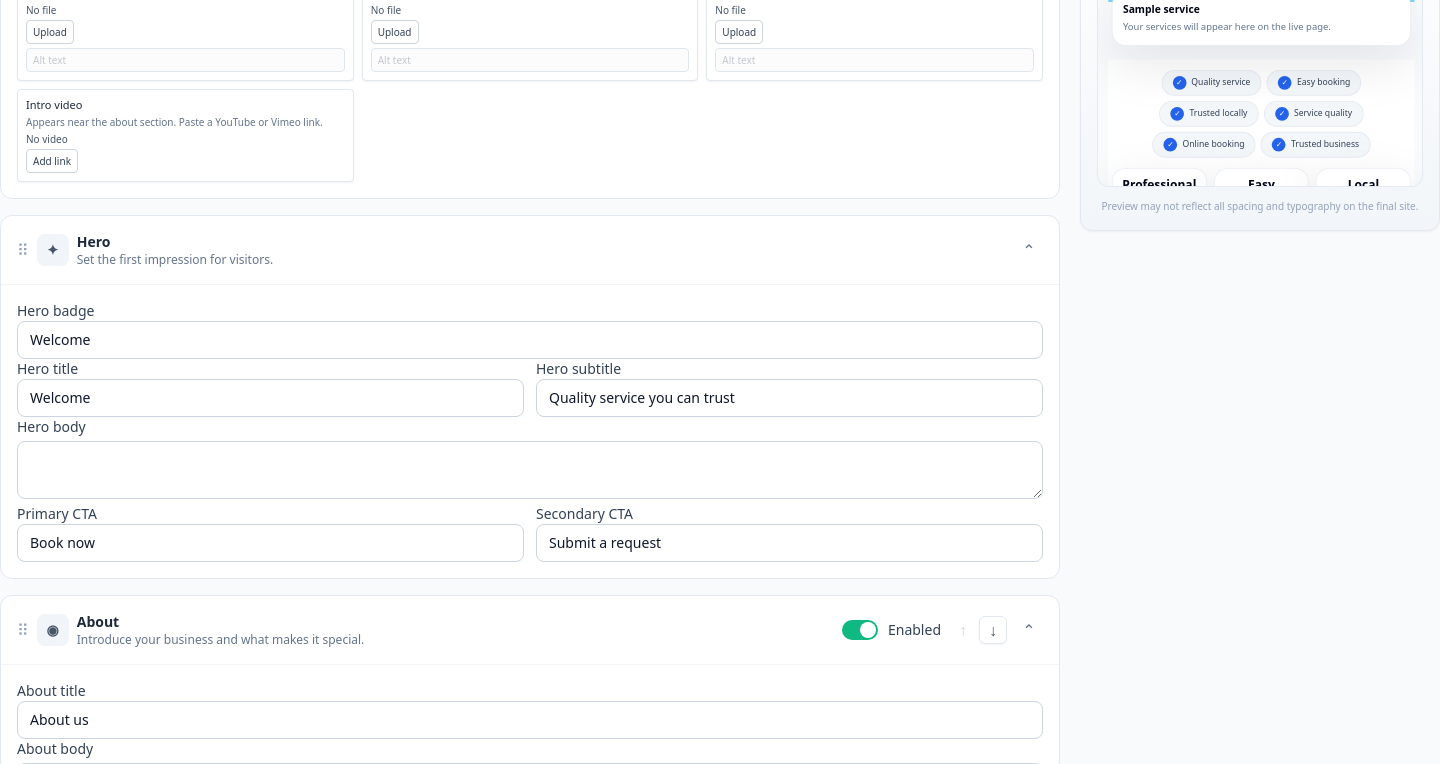
it: PublicProfileSettingsCard › updates live preview when hero title changes
(page scrolled)
Replace the text in the field with test id "mini-site-hero-title" with "Studio preview": (270, 398) [17,379,524,417]
(page scrolled)
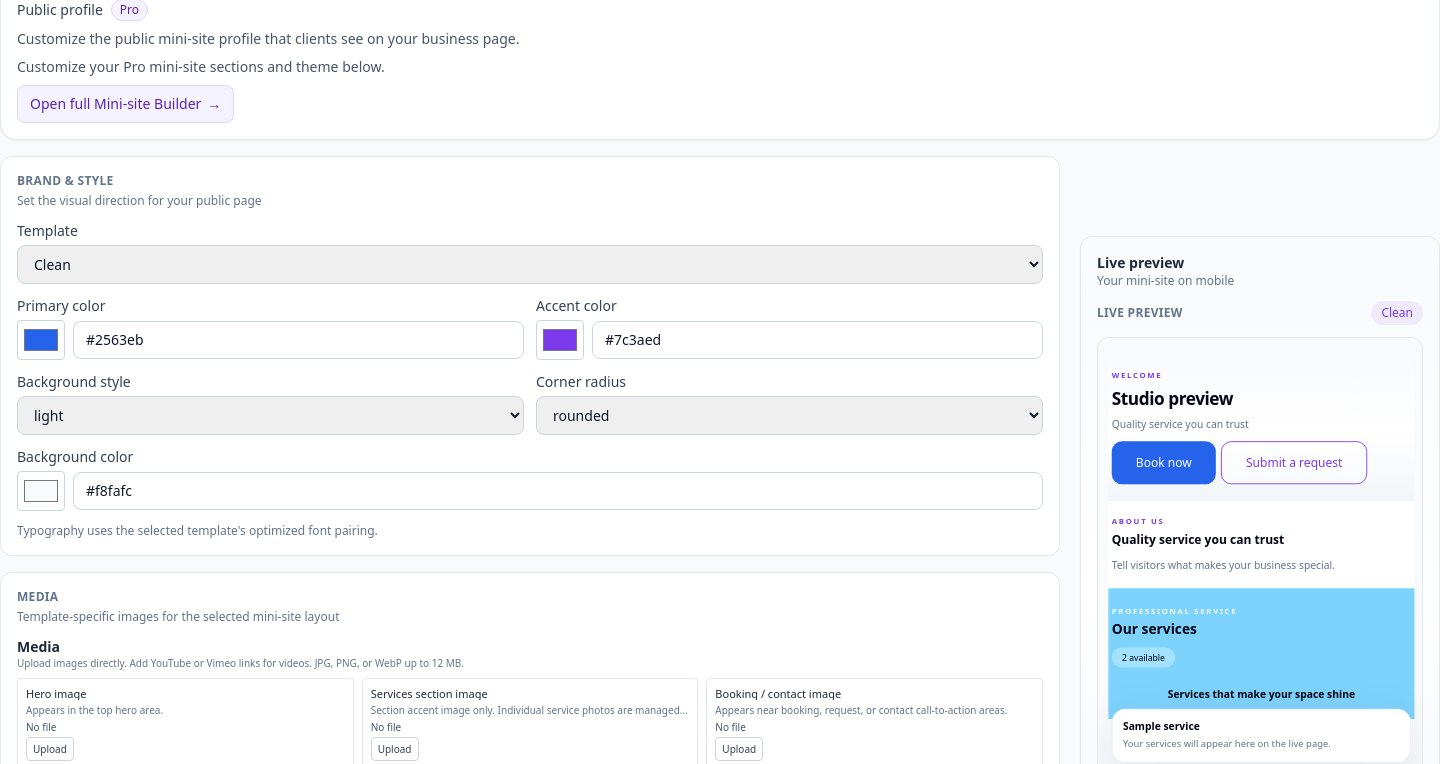
Result: the heading with test id "mini-site-preview-hero-title" reads "Studio preview" at [1112,387,1233,410]
